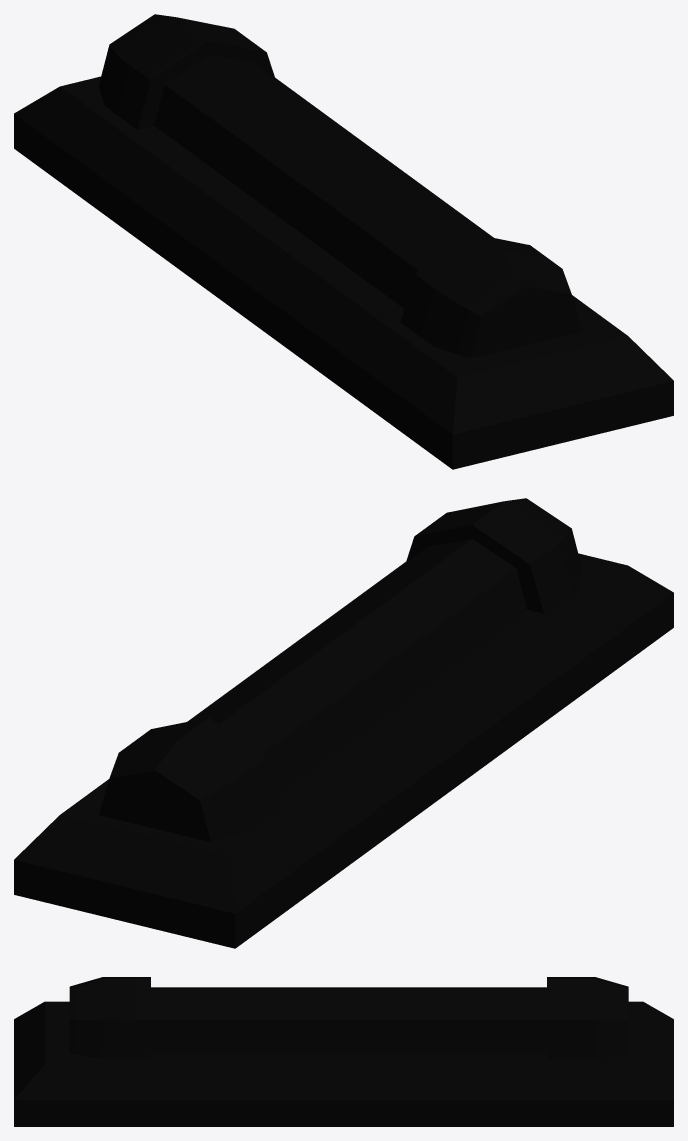
The model's file is space_SM_Prop_Light_Small_03.gltf.
3 renders of one model, top to bottom at view 1: azimuth 30°, elevation 25°; view 2: azimuth 150°, elevation 25°; view 3: azimuth 270°, elevation 25°, orthographic. The views are drawn at different scales.
Parts seen in each view (by area): view 1: SM_Prop_Light_Small_03; view 2: SM_Prop_Light_Small_03; view 3: SM_Prop_Light_Small_03.
Boxes of the visible parts, box(x1,y1,x2,y2) form: SM_Prop_Light_Small_03: box(14, 14, 673, 469); SM_Prop_Light_Small_03: box(14, 498, 673, 948); SM_Prop_Light_Small_03: box(14, 977, 673, 1126).
Bounding box in the file's own units: 0.143 × 0.088 × 0.4912.
Materials: 1 (1 with a texture image).
